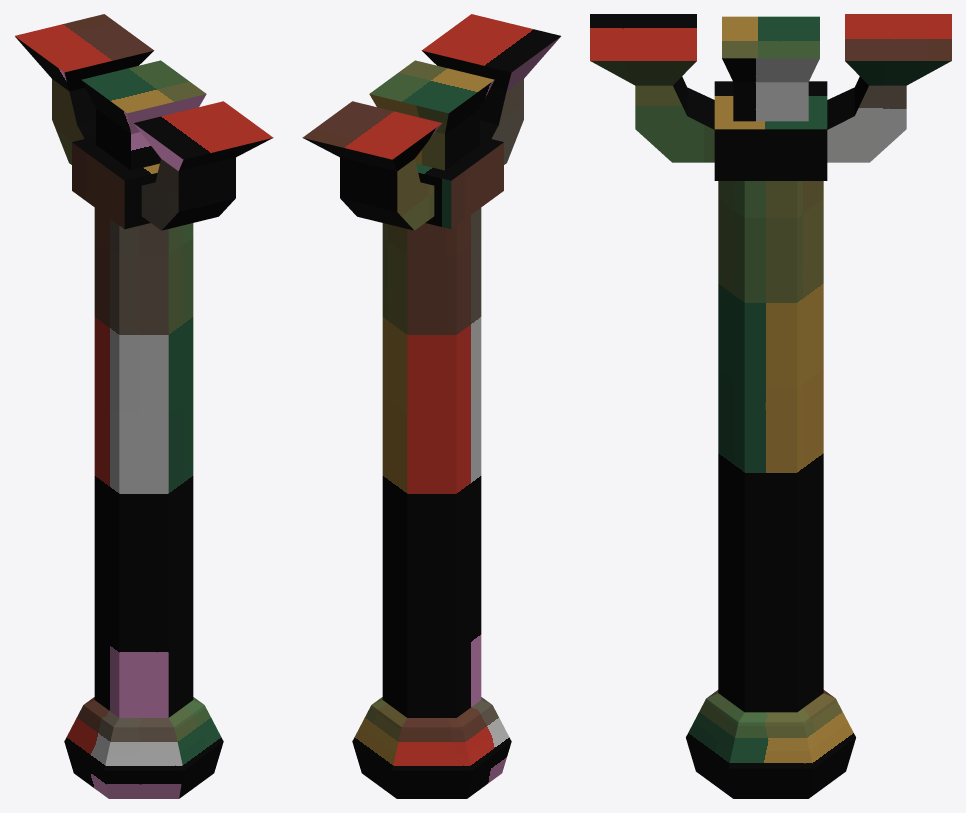
File: Pillar.fbx
3 renders of one model, left to right at view 1: azimuth 30°, elevation 25°; view 2: azimuth 150°, elevation 25°; view 3: azimuth 270°, elevation 25°, orthographic. The views are drawn at different scales.
Visible parts, largest first — view 1: Pillar, PillarTop, PillarBottom; view 2: Pillar, PillarTop, PillarBottom; view 3: Pillar, PillarTop, PillarBottom.
Boxes of the visible parts, x1,y1,x2,y2 form: Pillar: (94,208,193,717); PillarTop: (15,14,273,230); PillarBottom: (64,697,223,798); Pillar: (382,208,481,717); PillarTop: (302,14,560,230); PillarBottom: (352,697,511,798); Pillar: (718,181,823,712); PillarTop: (590,14,951,180); PillarBottom: (686,690,855,798).
Bounding box in the file's own units: 42.04 × 231 × 103.
